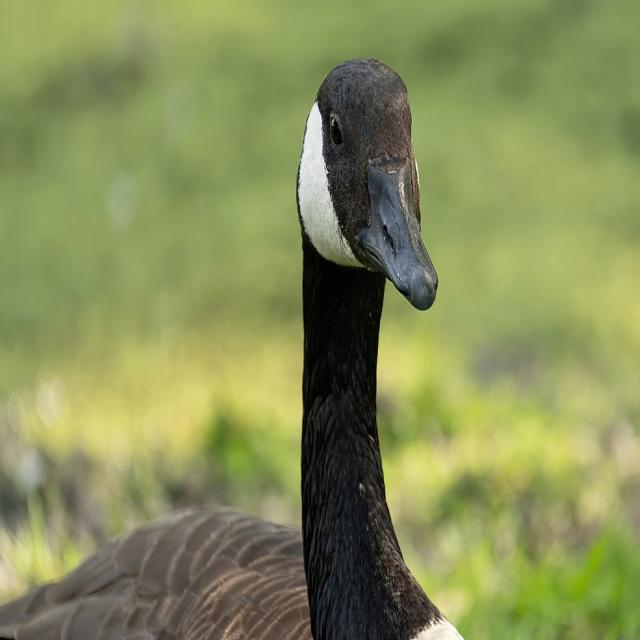Goose: (66, 71, 446, 640)
